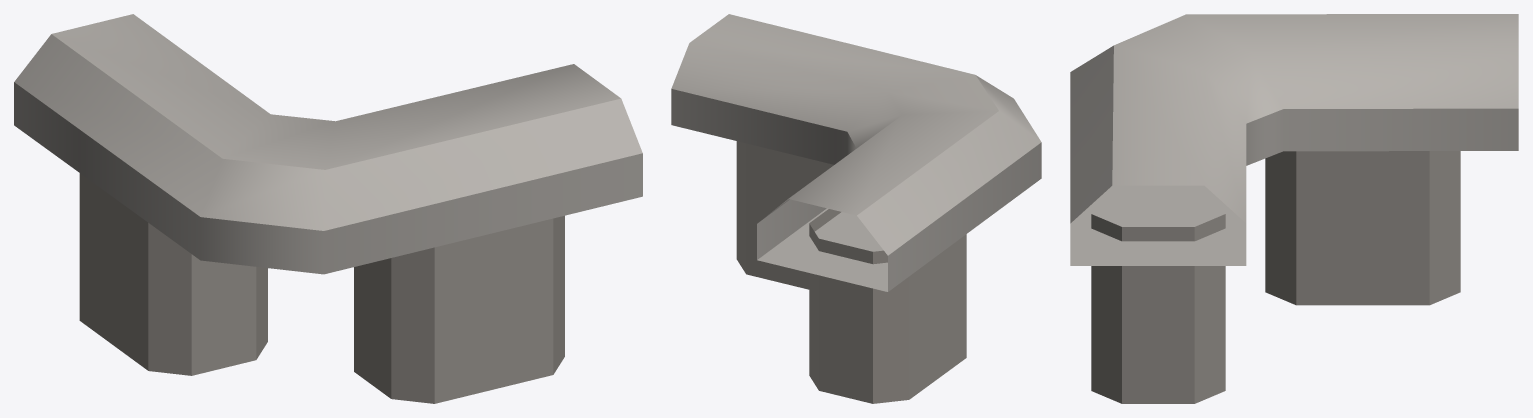
Rendered from Stage Fence 01 Corner.FBX.
3 views of the same model, side by side, from view 1: azimuth 30°, elevation 25°; view 2: azimuth 150°, elevation 25°; view 3: azimuth 270°, elevation 25° (orthographic). The views are drawn at different scales.
Visible parts, largest first — view 1: Stage Fence 01 Corner; view 2: Stage Fence 01 Corner; view 3: Stage Fence 01 Corner.
Boxes of the visible parts, x1,y1,x2,y2 form: Stage Fence 01 Corner: [14, 14, 642, 403]; Stage Fence 01 Corner: [671, 14, 1041, 403]; Stage Fence 01 Corner: [1070, 14, 1518, 403].
Bounding box in the file's own units: 62.21 × 37.18 × 62.21.
1 material, 1 textured.
